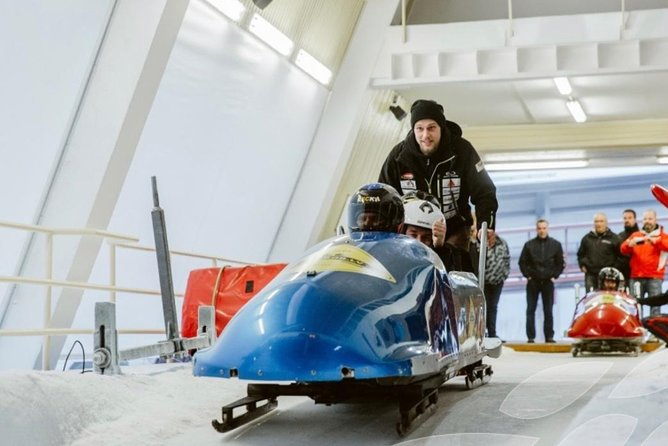Bobsleigh: (193, 237, 486, 431)
